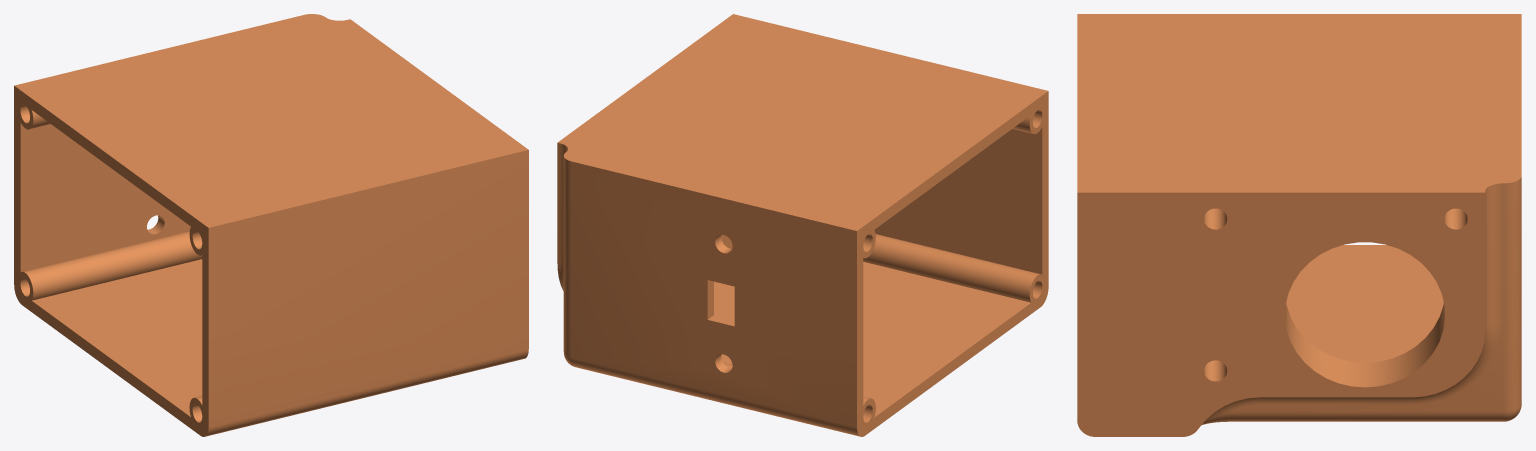
The model's file is uchwyt_prawy_serwo.obj.
3 views of the same model, side by side, from view 1: azimuth 30°, elevation 25°; view 2: azimuth 150°, elevation 25°; view 3: azimuth 270°, elevation 25° (orthographic). The views are drawn at different scales.
Visible parts, largest first — view 1: uchwyt_prawy_serwo; view 2: uchwyt_prawy_serwo; view 3: uchwyt_prawy_serwo.
Boxes of the visible parts, x1=… form: uchwyt_prawy_serwo: x1=14, y1=14, x2=528, y2=436; uchwyt_prawy_serwo: x1=557, y1=14, x2=1048, y2=436; uchwyt_prawy_serwo: x1=1077, y1=14, x2=1521, y2=436.
Bounding box in the file's own units: 58 × 37 × 61.
